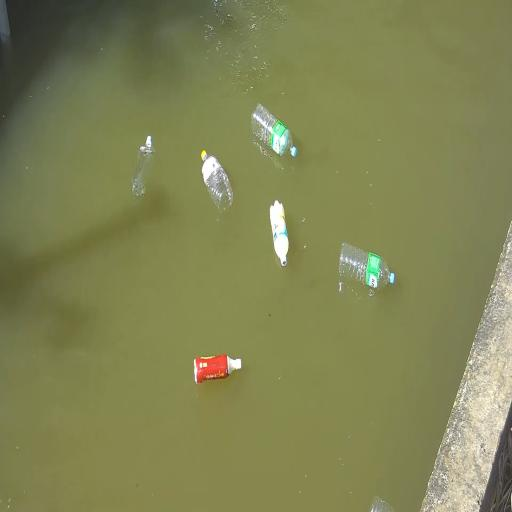plastic: (340, 243, 394, 288), (252, 104, 296, 157), (201, 150, 233, 213), (132, 136, 154, 198), (194, 355, 241, 383), (270, 200, 289, 266), (370, 496, 394, 511)
